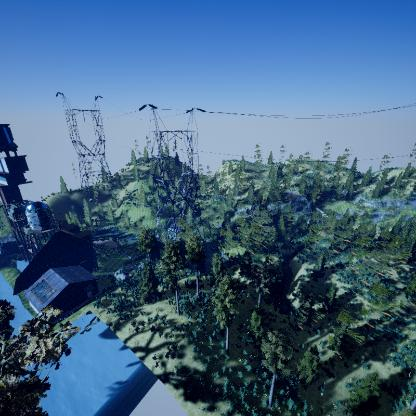tower: (135, 100, 209, 258), (53, 89, 118, 203)
